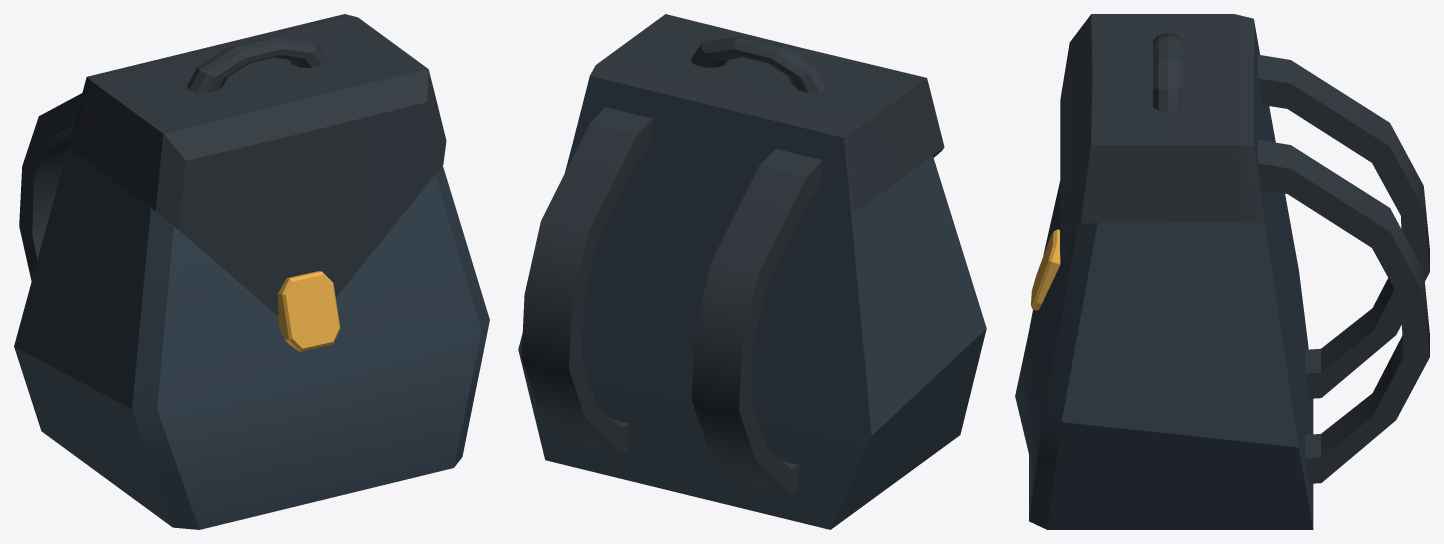
The model's file is Accesorios_Mochila.fbx.
The picture shows the model from 3 angles, left to right: view 1: azimuth 30°, elevation 25°; view 2: azimuth 150°, elevation 25°; view 3: azimuth 270°, elevation 25°; orthographic projection. The views are drawn at different scales.
Visible parts, largest first — view 1: pCube3, pCube7, pCube4, pTorus2; view 2: pCube3, pCube8, pCube7, pTorus2; view 3: pCube3, pCube8, pCube7, pTorus2, pCube4.
Boxes of the visible parts, x1,y1,x2,y2 form: pCube3: [14, 14, 489, 529]; pCube7: [19, 93, 82, 280]; pCube4: [277, 271, 340, 351]; pTorus2: [187, 35, 326, 93]; pCube3: [518, 14, 986, 529]; pCube8: [521, 107, 652, 453]; pCube7: [691, 148, 822, 494]; pTorus2: [691, 35, 828, 92]; pCube3: [1015, 14, 1313, 529]; pCube8: [1258, 139, 1429, 483]; pCube7: [1258, 54, 1429, 398]; pTorus2: [1153, 32, 1183, 112]; pCube4: [1031, 229, 1060, 310].
Bounding box in the file's own units: 1.73 × 1.87 × 1.71.
